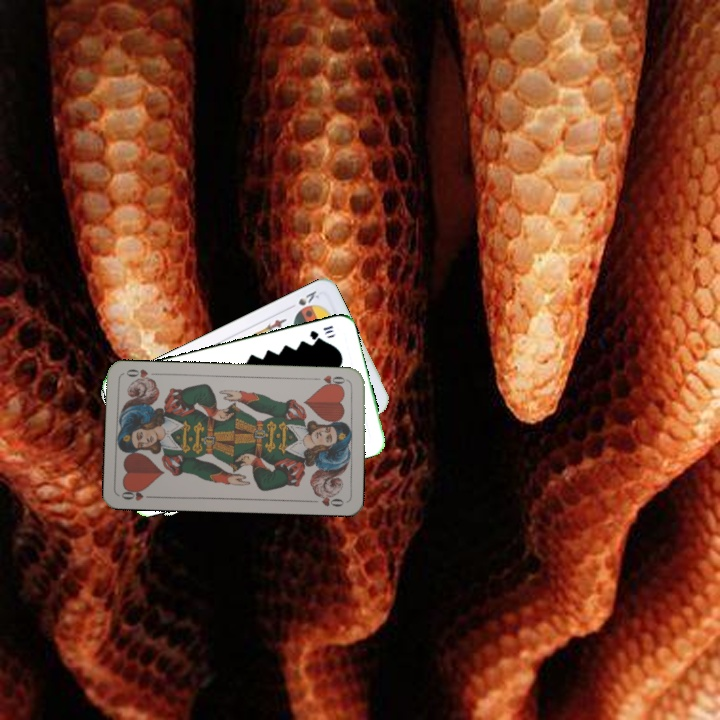G10: (306, 321, 335, 342)
HO: (310, 371, 350, 390), (118, 485, 158, 503)
SK: (294, 286, 322, 308)
